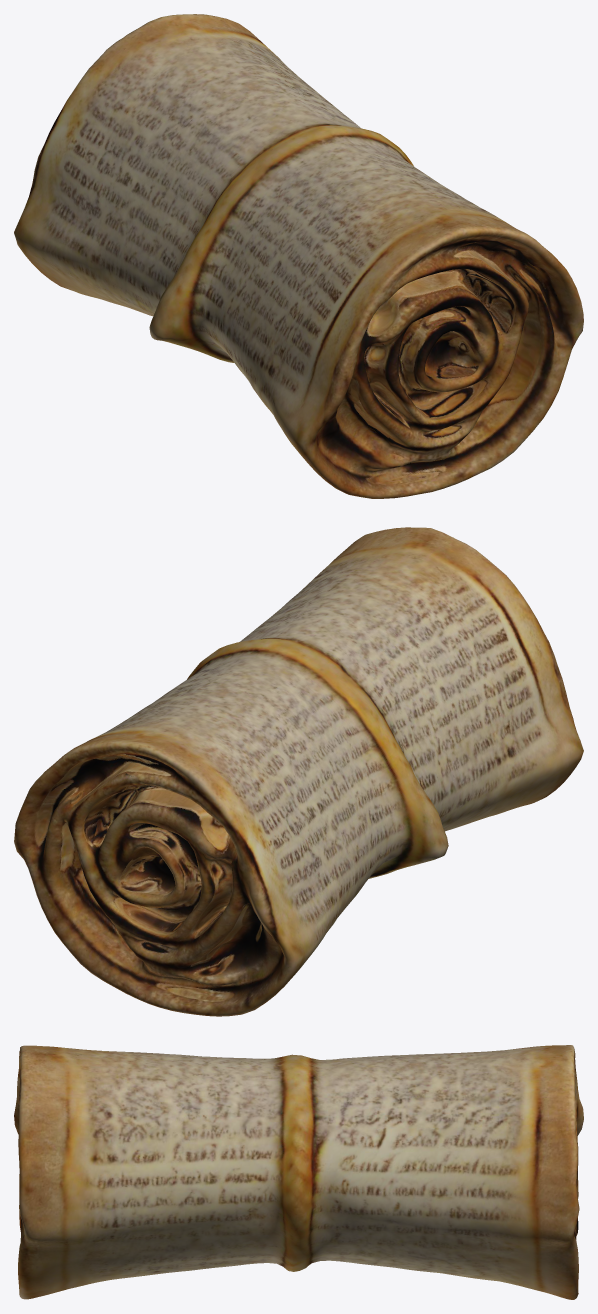
Rendered from Scroll 2.fbx.
3 views of the same model, one above another, from view 1: azimuth 30°, elevation 25°; view 2: azimuth 150°, elevation 25°; view 3: azimuth 270°, elevation 25° (orthographic). The views are drawn at different scales.
Visible parts, largest first — view 1: mesh; view 2: mesh; view 3: mesh.
Boxes of the visible parts, x1=… form: mesh: x1=14, y1=14, x2=583, y2=498; mesh: x1=14, y1=527, x2=583, y2=1016; mesh: x1=14, y1=1045, x2=583, y2=1299.
Size of the model in its own units: 54.25 by 46.67 by 99.81.
